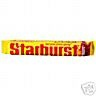grozi_37: (1, 40, 95, 56)
